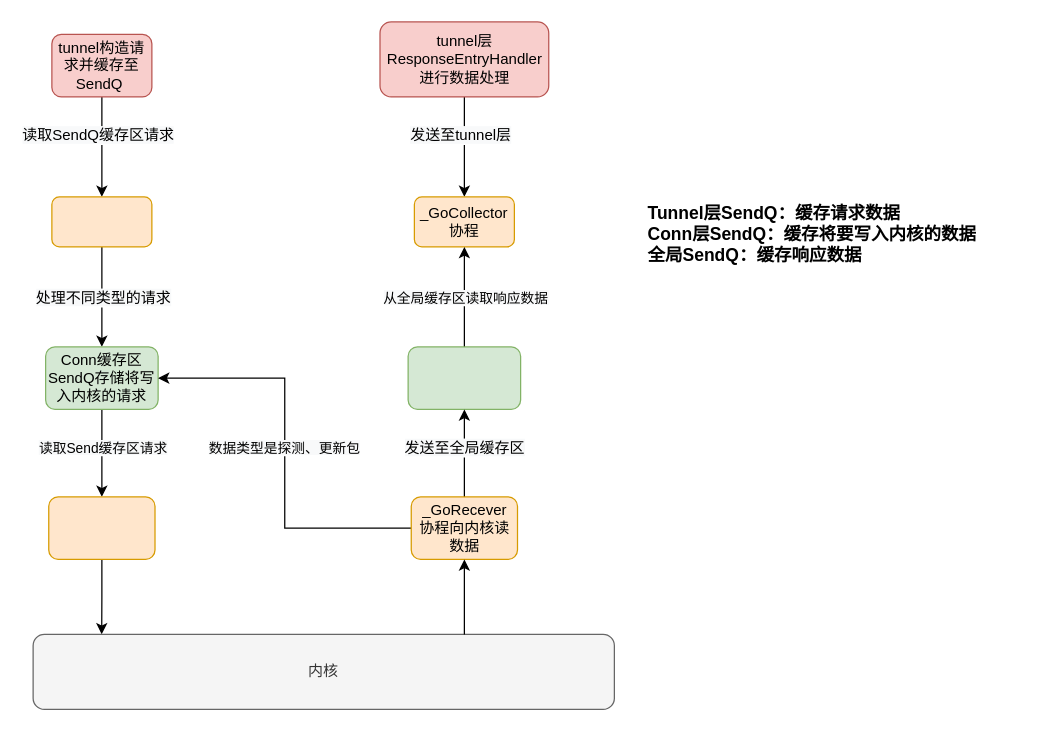
Image size: 1048x731. Some labels were removed from this diagram. Here are the shapes that lost their labels. From the top down, the box of each, then its label:
(51, 196, 152, 247): _GoDuplicator 协程
(407, 346, 521, 409): 全局缓存SendQ 存储响应数据
(48, 496, 155, 559): _GoSender 协程向内核写数据
